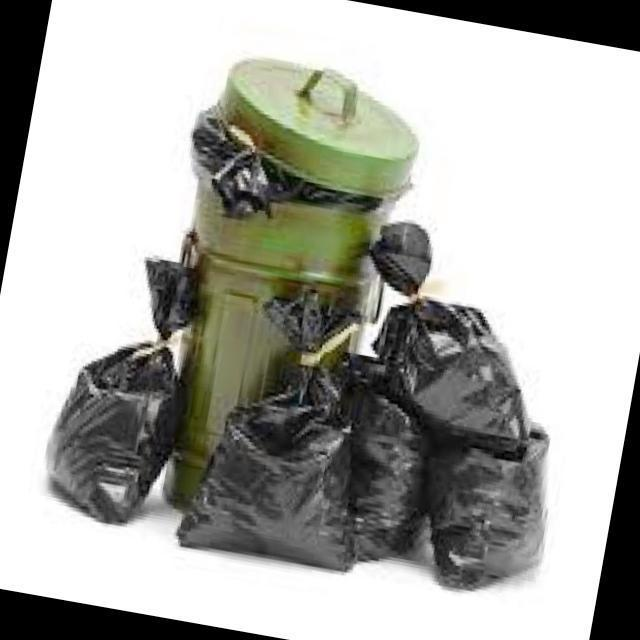garbage: (34, 238, 572, 604), (156, 90, 307, 229)
